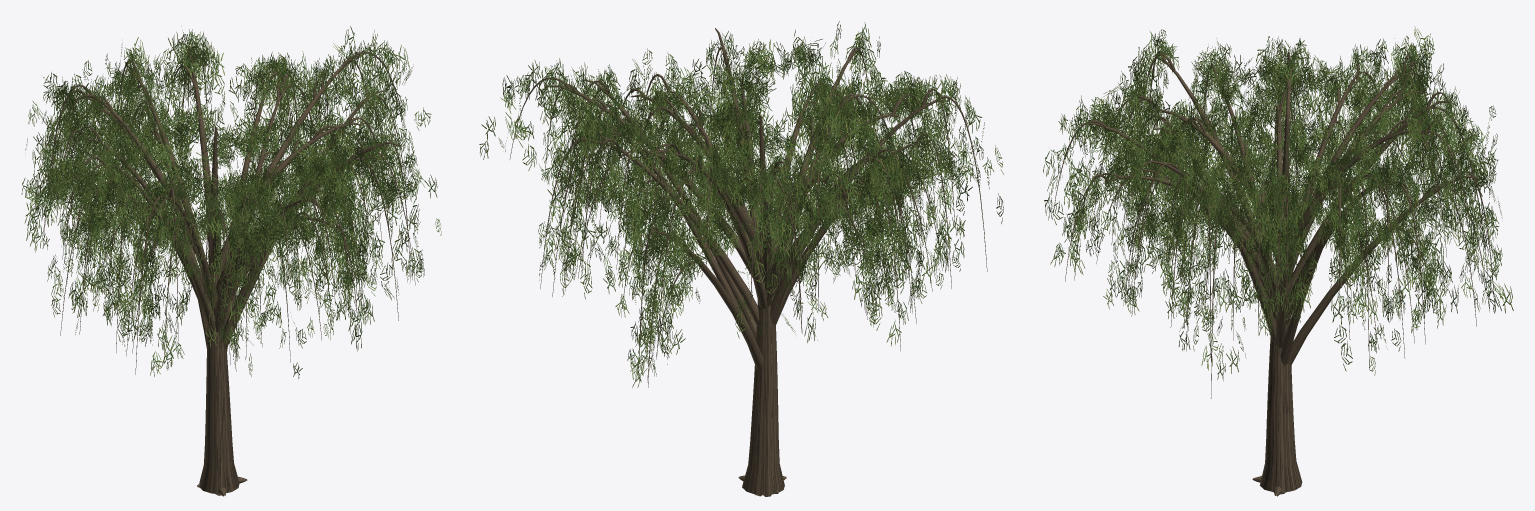
The model's file is weeping_willow_LOD0.glb.
3 views of the same model, side by side, from view 1: azimuth 30°, elevation 25°; view 2: azimuth 150°, elevation 25°; view 3: azimuth 270°, elevation 25° (orthographic). The views are drawn at different scales.
Parts seen in each view (by area): view 1: weeping_willow_foliage, weeping_willow_wood; view 2: weeping_willow_foliage, weeping_willow_wood; view 3: weeping_willow_foliage, weeping_willow_wood.
Part boxes in pixels (bbox=[...]): weeping_willow_foliage: bbox=[21, 26, 441, 379]; weeping_willow_wood: bbox=[35, 46, 415, 496]; weeping_willow_foliage: bbox=[479, 21, 1003, 387]; weeping_willow_wood: bbox=[509, 28, 987, 496]; weeping_willow_foliage: bbox=[1043, 26, 1513, 380]; weeping_willow_wood: bbox=[1052, 51, 1494, 496].
Size of the model in its own units: 14.96 by 13.93 by 14.28.
Materials: 2 (2 with a texture image).
